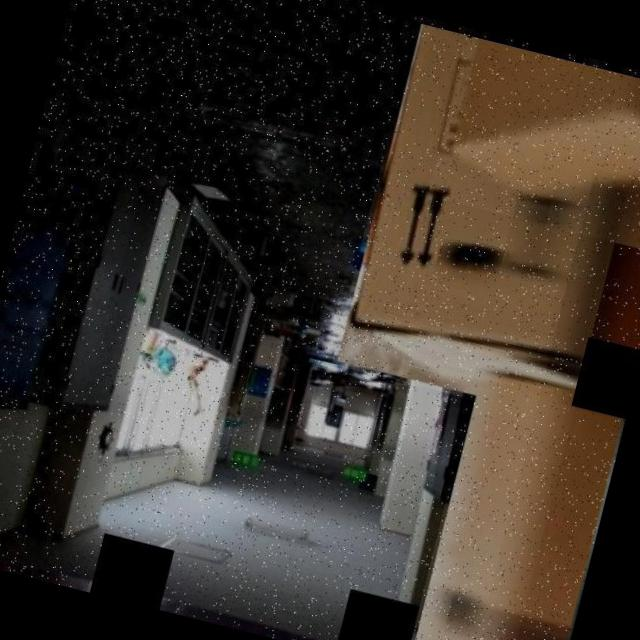box: (331, 16, 640, 423), (402, 357, 630, 640), (427, 29, 640, 254), (567, 148, 640, 420)
